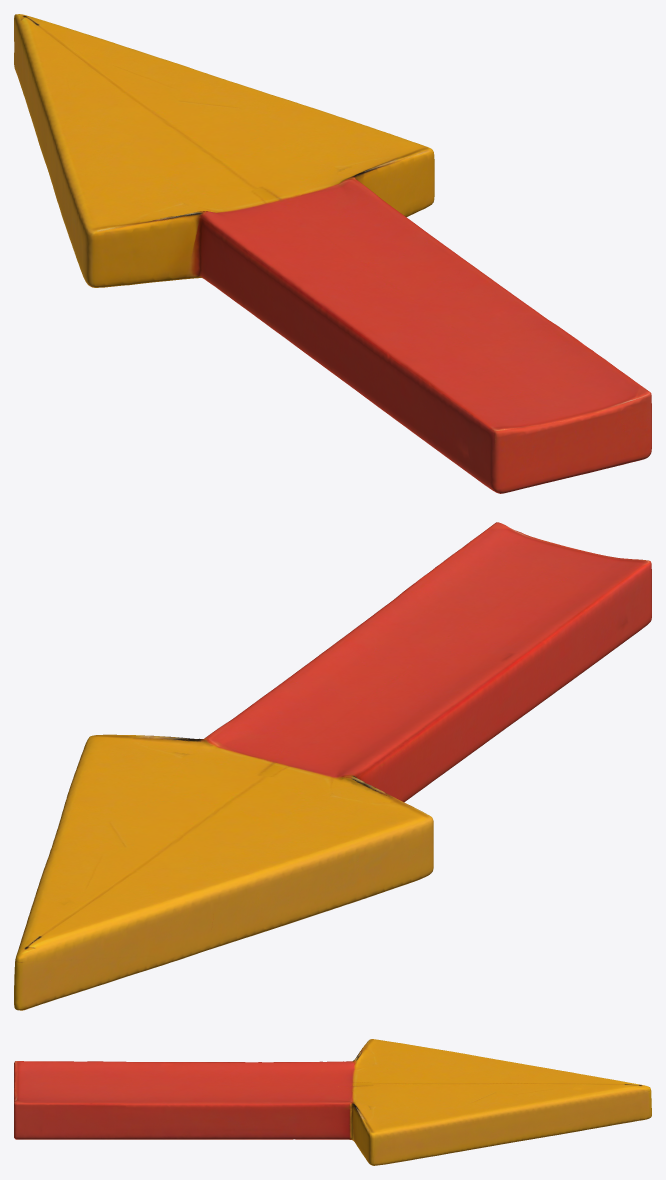
File: 行きたい方向を_0626052723_texture.glb
The picture shows the model from 3 angles, top to bottom: view 1: azimuth 30°, elevation 25°; view 2: azimuth 150°, elevation 25°; view 3: azimuth 270°, elevation 25°; orthographic projection. The views are drawn at different scales.
Size of the model in its own units: 0.7153 by 0.1349 by 2.
1 material, 1 textured.
